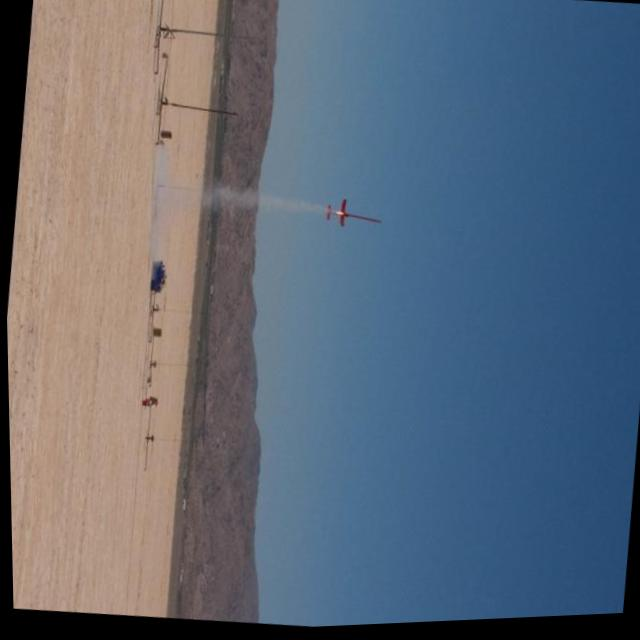missile: (313, 192, 381, 238)
